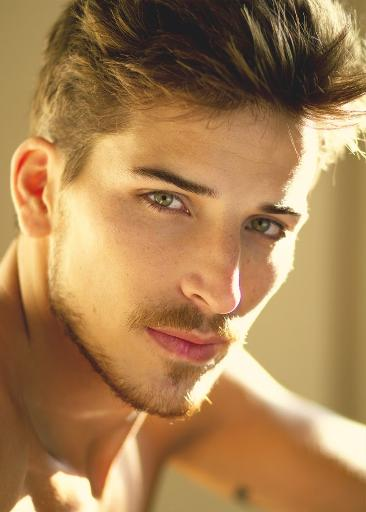left_eye: (242, 215, 293, 242)
left_lip_corner: (218, 334, 240, 352)
right_eye: (135, 188, 196, 218)
right_lip_corner: (138, 320, 164, 343)
